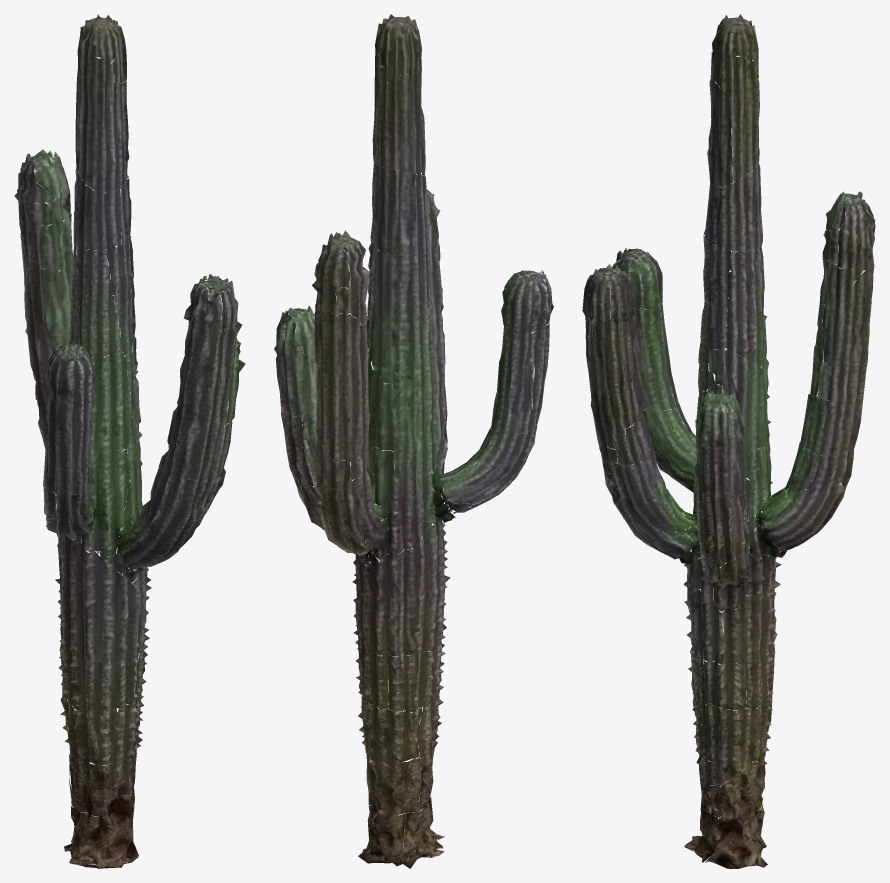
File: saguaro.glb
The picture shows the model from 3 angles, left to right: view 1: azimuth 30°, elevation 25°; view 2: azimuth 150°, elevation 25°; view 3: azimuth 270°, elevation 25°; orthographic projection.
Parts seen in each view (by area): view 1: tripo_node_012e1345-6f7d-4a76-b294-5811ff54b409; view 2: tripo_node_012e1345-6f7d-4a76-b294-5811ff54b409; view 3: tripo_node_012e1345-6f7d-4a76-b294-5811ff54b409.
Boxes of the visible parts, left/top/right/bottom form: tripo_node_012e1345-6f7d-4a76-b294-5811ff54b409: left=14, top=14, right=245, bottom=868; tripo_node_012e1345-6f7d-4a76-b294-5811ff54b409: left=274, top=14, right=553, bottom=868; tripo_node_012e1345-6f7d-4a76-b294-5811ff54b409: left=582, top=14, right=875, bottom=868.
Size of the model in its own units: 0.2885 by 1 by 0.3164.
1 material, 1 textured.
